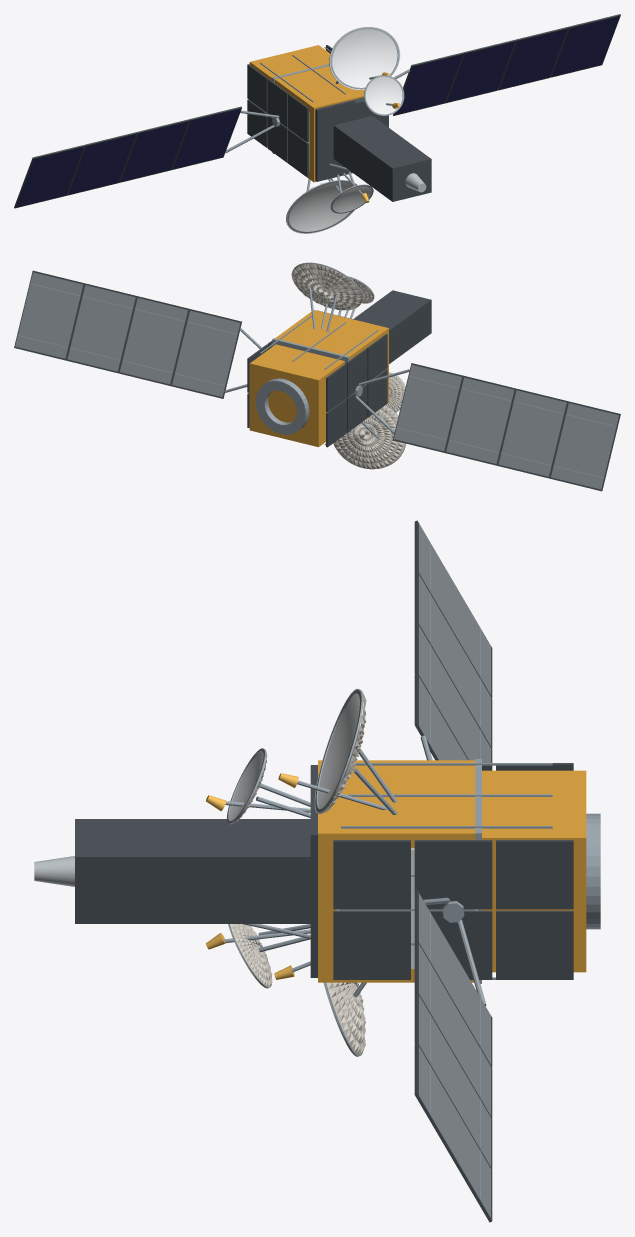
Rendered from intelsat-va-nss.glb.
The picture shows the model from 3 angles, top to bottom: view 1: azimuth 30°, elevation 25°; view 2: azimuth 150°, elevation 25°; view 3: azimuth 270°, elevation 25°; orthographic projection. The views are drawn at different scales.
Parts seen in each view (by area): view 1: Solar cell panel (×8), Communications tower, Radiator bay (×6), Reflector 2 face, Solar panel frame (×8), Payload module, Earth-facing deck, Reflector 1 face, Service module, Reflector 4 face, Reflector 3 face, Reflector 2 edge (+1 smaller); view 2: Rear array substrate (×8), Service module, Radiator bay (×6), Solar panel frame (×8), Payload module, Communications tower, Reflector 1 insulated back, Reflector 2 insulated back, Launch adapter ring, Reflector 3 insulated back, Module interface; view 3: Radiator bay (×6), Rear array substrate (×8), Communications tower, Payload module, Service module, Reflector 2 face, Reflector 1 insulated back, Launch adapter ring, Earth-facing deck, Reflector 3 insulated back, Tower feed horn.
Boxes of the visible parts, left/top/right/bottom form: Solar cell panel (×8): left=16, top=16, right=619, bottom=207; Communications tower: left=333, top=116, right=431, bottom=201; Radiator bay (×6): left=247, top=64, right=308, bottom=177; Reflector 2 face: left=330, top=27, right=400, bottom=89; Solar panel frame (×8): left=14, top=14, right=620, bottom=208; Payload module: left=274, top=66, right=364, bottom=182; Earth-facing deck: left=315, top=97, right=388, bottom=181; Reflector 1 face: left=286, top=181, right=357, bottom=233; Service module: left=249, top=45, right=330, bottom=112; Reflector 4 face: left=365, top=76, right=402, bottom=114; Reflector 3 face: left=332, top=186, right=371, bottom=211; Reflector 2 edge: left=329, top=27, right=399, bottom=89; Rear array substrate (×8): left=15, top=272, right=618, bottom=489; Service module: left=249, top=344, right=344, bottom=447; Radiator bay (×6): left=326, top=334, right=387, bottom=447; Solar panel frame (×8): left=14, top=270, right=620, bottom=491; Payload module: left=275, top=310, right=388, bottom=417; Communications tower: left=353, top=290, right=431, bottom=363; Reflector 1 insulated back: left=333, top=405, right=405, bottom=469; Reflector 2 insulated back: left=291, top=263, right=362, bottom=310; Launch adapter ring: left=255, top=378, right=309, bottom=434; Reflector 3 insulated back: left=386, top=372, right=405, bottom=412; Module interface: left=272, top=338, right=349, bottom=432; Radiator bay (×6): left=333, top=840, right=573, bottom=979; Rear array substrate (×8): left=419, top=524, right=490, bottom=1217; Communications tower: left=75, top=819, right=310, bottom=923; Payload module: left=318, top=760, right=475, bottom=982; Service module: left=482, top=770, right=586, bottom=972; Reflector 2 face: left=314, top=688, right=361, bottom=813; Reflector 1 insulated back: left=326, top=982, right=365, bottom=1055; Launch adapter ring: left=586, top=813, right=600, bottom=929; Earth-facing deck: left=310, top=765, right=317, bottom=977; Reflector 3 insulated back: left=230, top=924, right=272, bottom=987; Tower feed horn: left=34, top=856, right=74, bottom=886.
Bounding box in the file's own units: 15.69 × 4.95 × 6.54.
10 materials, 1 textured.
